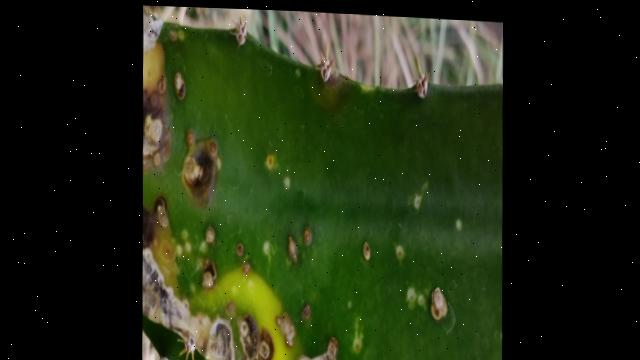stemcanker: (252, 146, 306, 198), (230, 236, 267, 278), (299, 219, 322, 252), (354, 234, 374, 265), (201, 221, 220, 250), (388, 243, 410, 264), (453, 216, 472, 238), (165, 28, 181, 48)
